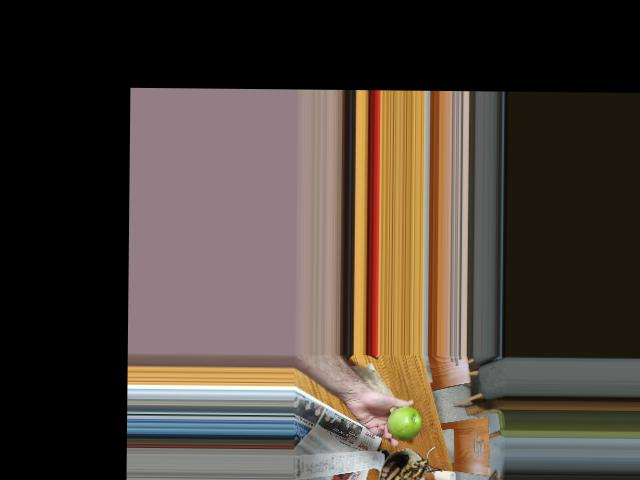apple: (387, 406, 423, 440)
